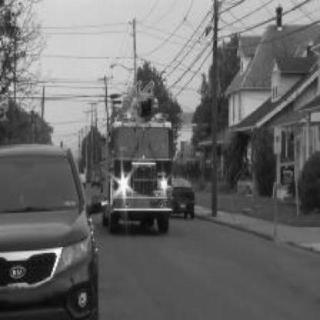other: (99, 107, 173, 123)
